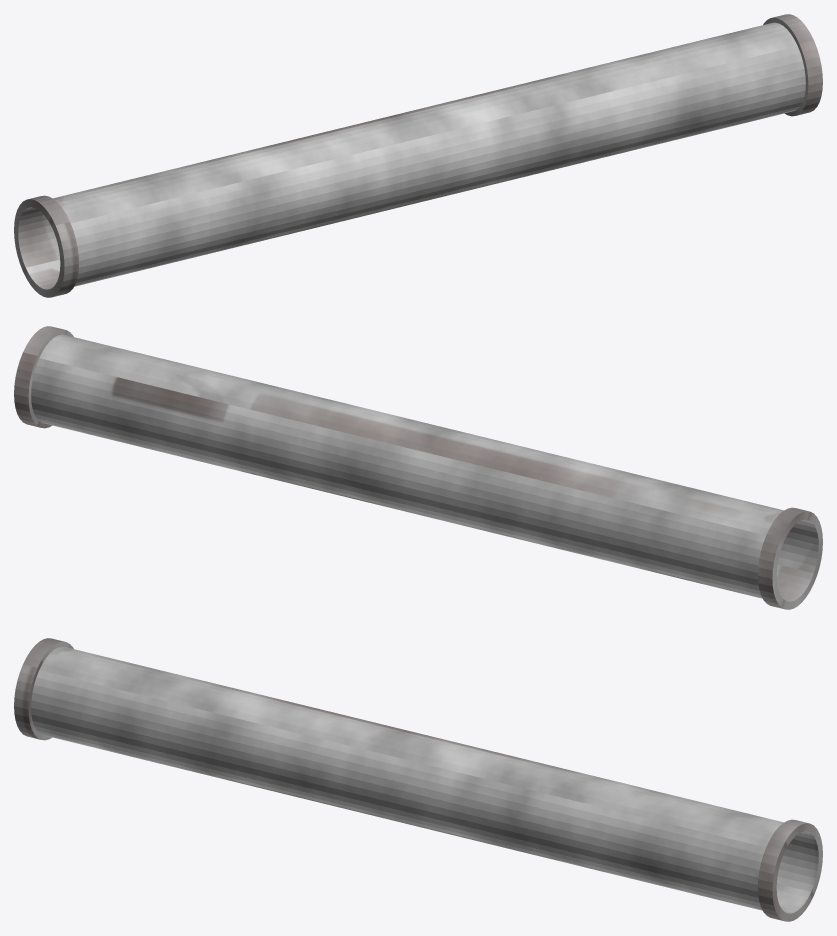
Rendered from Pipe 4.glb.
3 renders of one model, top to bottom at view 1: azimuth 30°, elevation 25°; view 2: azimuth 150°, elevation 25°; view 3: azimuth 330°, elevation 25°, orthographic.
Visible parts, largest first — view 1: Pipe 500mm WE; view 2: Pipe 500mm WE; view 3: Pipe 500mm WE.
Part boxes in pixels (x1,y1,x2,y2): Pipe 500mm WE: [14, 14, 822, 297]; Pipe 500mm WE: [14, 326, 822, 609]; Pipe 500mm WE: [14, 638, 822, 921].
Size of the model in its own units: 36.99 by 4.27 by 4.27.
Materials: 1 (1 with a texture image).
